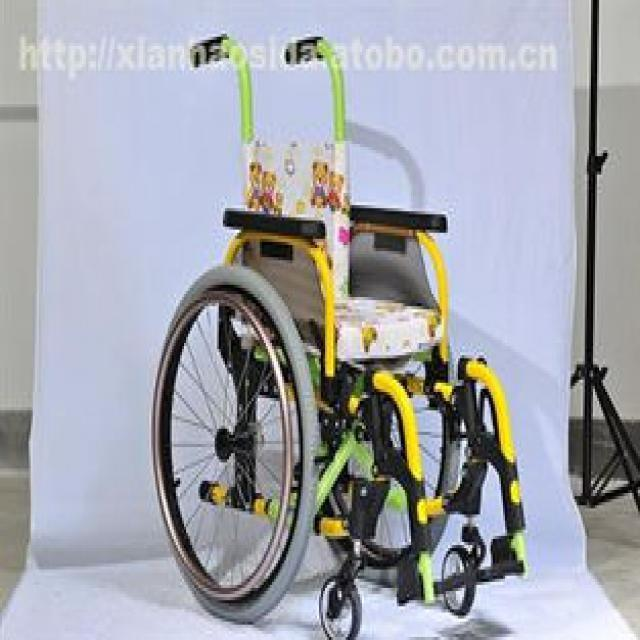wheelchairs: (145, 32, 538, 640)
